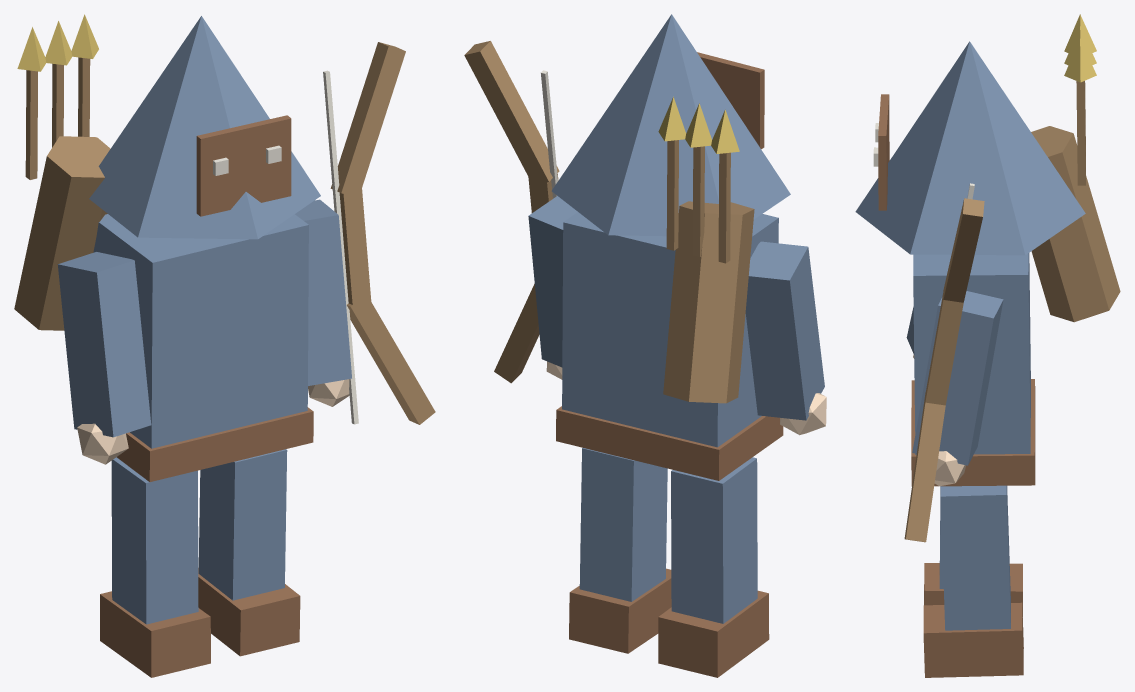
The model's file is npcpose_archer_idle_05.glb.
The picture shows the model from 3 angles, left to right: view 1: azimuth 30°, elevation 25°; view 2: azimuth 150°, elevation 25°; view 3: azimuth 270°, elevation 25°; orthographic projection. The views are drawn at different scales.
Visible parts, largest first — view 1: npcpose; view 2: npcpose; view 3: npcpose.
Part boxes in pixels (x1,y1,x2,y2): npcpose: (14,14,435,677); npcpose: (464,14,826,677); npcpose: (855,14,1120,677).
Bounding box in the file's own units: 0.9091 × 1.61 × 0.644.
